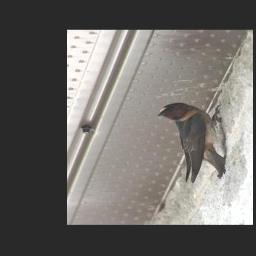Swallow: (158, 102, 229, 183)
